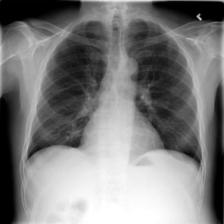normal: (22, 14, 206, 175)
